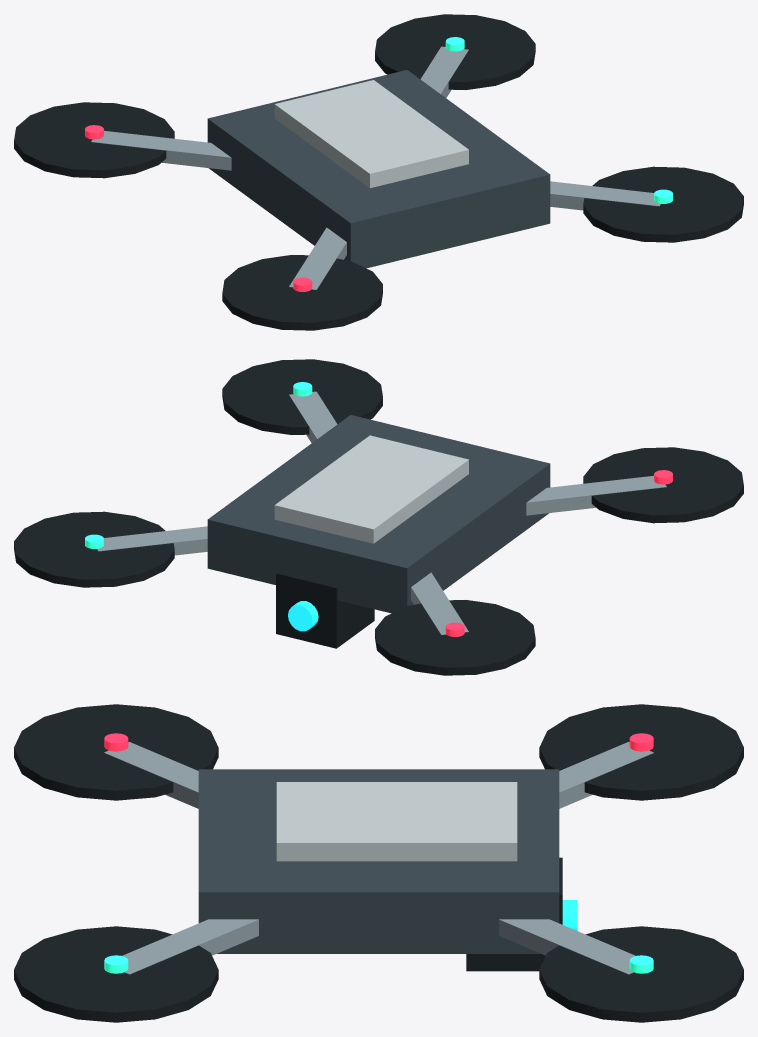
Rendered from drone.glb.
The picture shows the model from 3 angles, top to bottom: view 1: azimuth 30°, elevation 25°; view 2: azimuth 150°, elevation 25°; view 3: azimuth 270°, elevation 25°; orthographic projection. The views are drawn at different scales.
Visible parts, largest first — view 1: drone-0, drone-1, drone-8, drone-10, drone-4, drone-6, drone-3, drone-2; view 2: drone-0, drone-1, drone-4, drone-6, drone-8, drone-10, drone-2, drone-12, drone-3, drone-13; view 3: drone-0, drone-1, drone-6, drone-10, drone-4, drone-8, drone-2, drone-3, drone-12.
Part boxes in pixels (bbox=[...]): drone-0: bbox=[207, 70, 550, 268]; drone-1: bbox=[274, 80, 468, 188]; drone-8: bbox=[222, 255, 382, 330]; drone-10: bbox=[583, 166, 743, 242]; drone-4: bbox=[14, 102, 174, 178]; drone-6: bbox=[375, 14, 535, 89]; drone-3: bbox=[91, 130, 660, 210]; drone-2: bbox=[289, 46, 468, 289]; drone-0: bbox=[207, 415, 550, 613]; drone-1: bbox=[274, 435, 468, 543]; drone-4: bbox=[375, 600, 535, 675]; drone-6: bbox=[14, 511, 174, 587]; drone-8: bbox=[583, 447, 743, 523]; drone-10: bbox=[222, 359, 382, 434]; drone-2: bbox=[97, 475, 666, 555]; drone-12: bbox=[276, 572, 374, 648]; drone-3: bbox=[289, 391, 468, 634]; drone-13: bbox=[288, 601, 318, 631]; drone-0: bbox=[198, 769, 559, 953]; drone-1: bbox=[276, 782, 517, 861]; drone-6: bbox=[539, 926, 743, 1022]; drone-10: bbox=[14, 926, 218, 1022]; drone-4: bbox=[539, 704, 743, 800]; drone-8: bbox=[14, 704, 218, 800]; drone-2: bbox=[104, 742, 653, 974]; drone-3: bbox=[104, 742, 653, 974]; drone-12: bbox=[466, 857, 562, 971].
Bounding box in the file's own units: 7.28 × 1.54 × 7.28.
